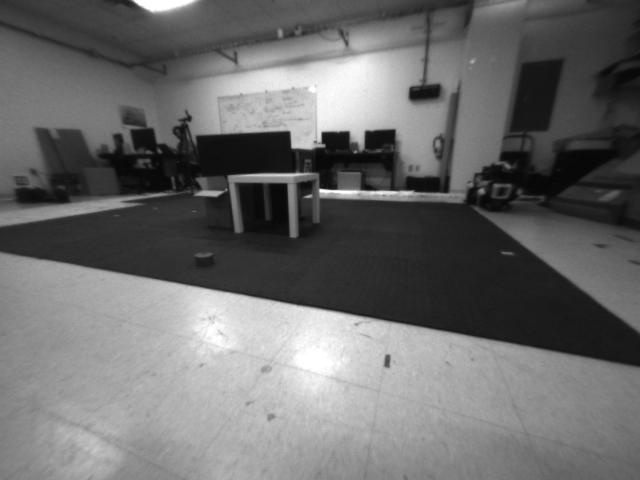dogtoy: (184, 243, 218, 270)
